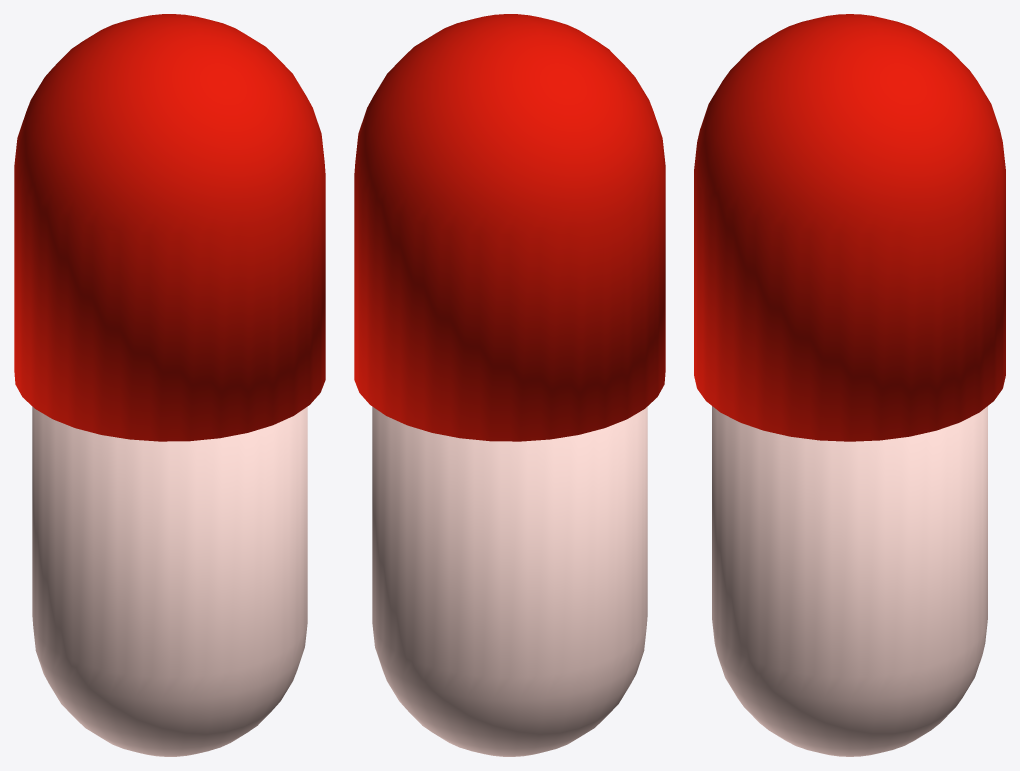
File: RPill.glb
3 views of the same model, side by side, from view 1: azimuth 30°, elevation 25°; view 2: azimuth 150°, elevation 25°; view 3: azimuth 270°, elevation 25° (orthographic).
Visible parts, largest first — view 1: cap_top, cap_bottom; view 2: cap_top, cap_bottom; view 3: cap_top, cap_bottom.
Boxes of the visible parts, x1,y1,x2,y2 form: cap_top: (14,14,325,441); cap_bottom: (32,406,307,756); cap_top: (354,14,665,441); cap_bottom: (372,406,647,756); cap_top: (694,14,1005,441); cap_bottom: (712,406,987,756).
Size of the model in its own units: 2 by 5.07 by 2.
